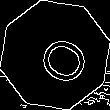O_NW: (22, 24, 88, 86)
